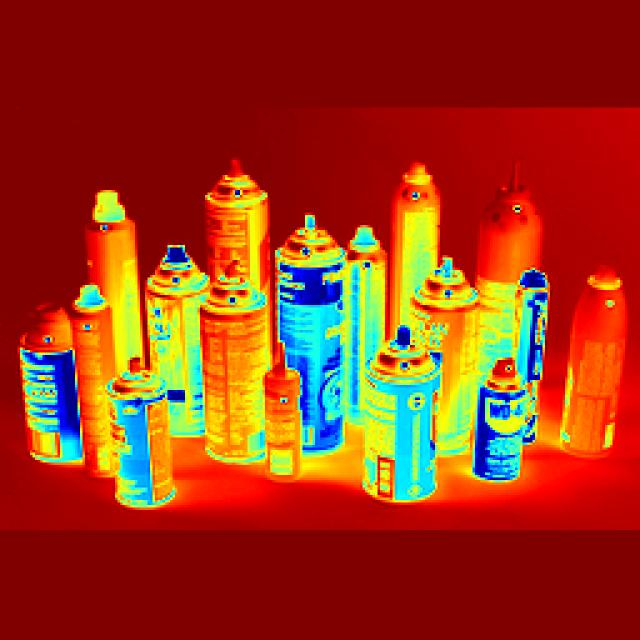Aerosol Cans: (279, 205, 356, 468)
